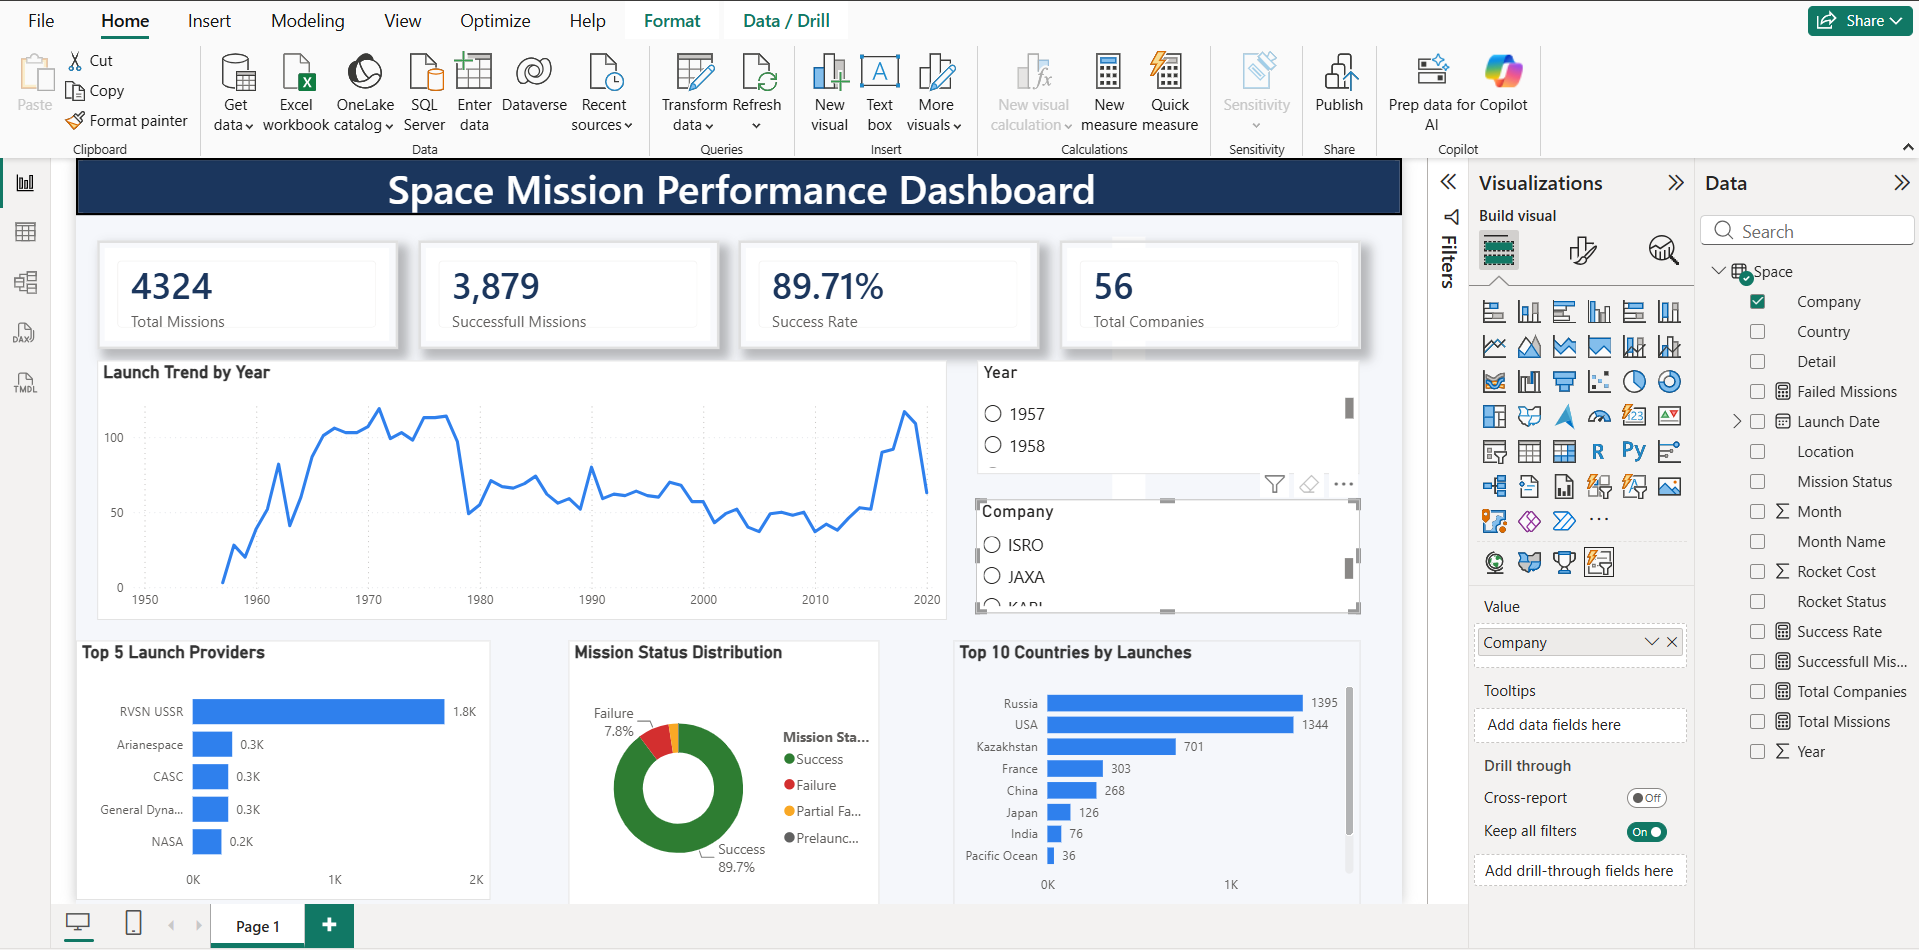

The page's visual inventory and layout, read from the dashboard file:
{"tool":"powerbi","page":{"name":"Page 1","canvas":[1280,720],"ordinal":0},"visuals":[{"type":"cardVisual","fields":{"Data":["Space.Total Missions"]},"box":[1000.3,75.5,32,280],"z":0},{"type":"cardVisual","fields":{"Data":["Space.Success Rate"]},"box":[640,80,290,105],"z":1000},{"type":"cardVisual","fields":{"Data":["Space.Successfull Missions"]},"box":[330,80,290,105],"z":2000},{"type":"cardVisual","fields":{"Data":["Space.Total Companies"]},"box":[950,80,290,105],"z":3000},{"type":"textbox","title":"Space Mission Performance Dashboard","box":[0,0,1280.3,55],"z":4000},{"type":"cardVisual","fields":{"Data":["Space.Total Missions"]},"box":[20,80,290,105],"z":5000},{"type":"lineChart","title":"Launch Trend by Year","fields":{"Category":["Space.Year"],"Y":["Space.Total Missions"]},"box":[20,195,820,250],"z":6000},{"type":"clusteredBarChart","title":"Top 5 Launch Providers","fields":{"Category":["Space.Company"],"Y":["Space.Total Missions"]},"box":[0,465.2,400,250],"z":7000},{"type":"donutChart","title":"Mission Status Distribution","fields":{"Category":["Space.Mission Status"],"Y":["Space.Total Missions"]},"box":[474.8,465.2,300,255.2],"z":8000},{"type":"clusteredBarChart","title":"Top 10 Countries by Launches","fields":{"Category":["Space.Country"],"Y":["Space.Total Missions"]},"box":[846.7,465.2,392.5,255.2],"z":9000},{"type":"listSlicer","fields":{"Values":["Space.Year"]},"box":[870,194.9,369.1,109.8],"z":10000},{"type":"listSlicer","fields":{"Values":["Space.Company"]},"box":[868.6,329.3,370.5,110],"z":11000}]}

Visuals, with their boxes on the page's 1280x720 design canvas (x1, y1, x2, y2). These are canvas units, not pixel positions in the 1919x950 screenshot, which may show the page scaled, cropped or inside an application window:
cardVisual - Space.Total Missions: (x1=1000, y1=76, x2=1032, y2=356)
cardVisual - Space.Success Rate: (x1=640, y1=80, x2=930, y2=185)
cardVisual - Space.Successfull Missions: (x1=330, y1=80, x2=620, y2=185)
cardVisual - Space.Total Companies: (x1=950, y1=80, x2=1240, y2=185)
"Space Mission Performance Dashboard" textbox: (x1=0, y1=0, x2=1280, y2=55)
cardVisual - Space.Total Missions: (x1=20, y1=80, x2=310, y2=185)
"Launch Trend by Year" lineChart: (x1=20, y1=195, x2=840, y2=445)
"Top 5 Launch Providers" clusteredBarChart: (x1=0, y1=465, x2=400, y2=715)
"Mission Status Distribution" donutChart: (x1=475, y1=465, x2=775, y2=720)
"Top 10 Countries by Launches" clusteredBarChart: (x1=847, y1=465, x2=1239, y2=720)
listSlicer - Space.Year: (x1=870, y1=195, x2=1239, y2=305)
listSlicer - Space.Company: (x1=869, y1=329, x2=1239, y2=439)
